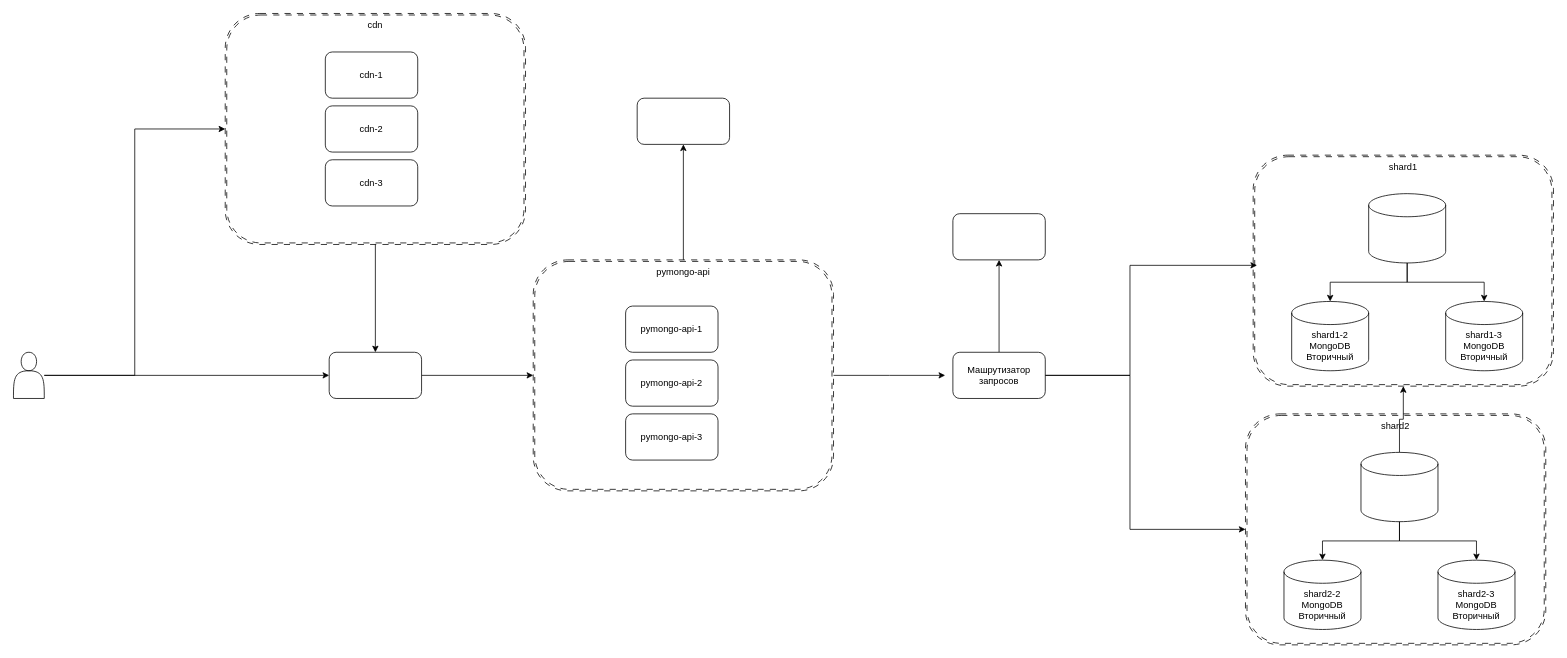
Some shapes in this 1567 by 658 pixel diagram are drawn without their labels. The centre of each missing label's shape, as x and y in pixels:
api-gateway: [375,375]
configSrv Сервер конфигурации: [998,236]
redis: [683,120]
shard1-1 MongoDB Первичный: [1407,228]
shard2-1 MongoDB Первичный: [1399,487]
